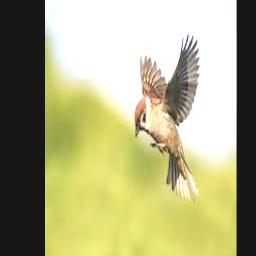Sparrow: (134, 33, 199, 203)
